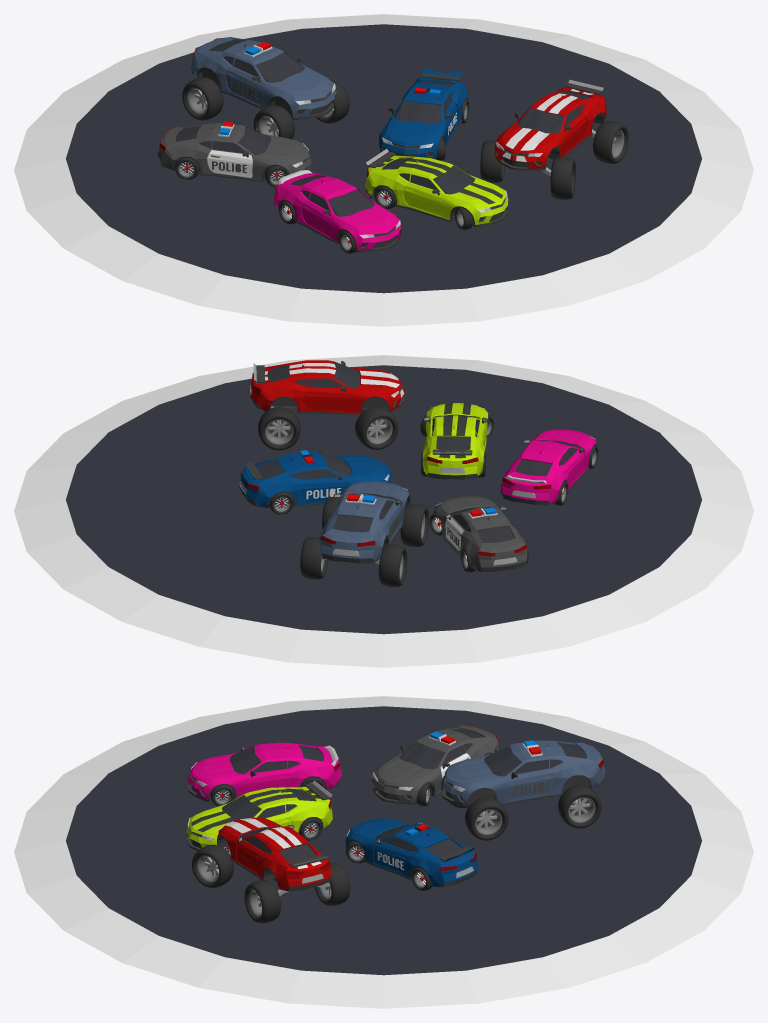
File: Full Pack.fbx
3 views of the same model, one above another, from view 1: azimuth 30°, elevation 25°; view 2: azimuth 150°, elevation 25°; view 3: azimuth 270°, elevation 25° (orthographic).
Parts seen in each view (by area): view 1: Ground, polySurface59 (×6), polySurface43 (×6), Tier (×6), polySurface65 (×4); view 2: Ground, polySurface59 (×6), polySurface43 (×6), Tier (×5), polySurface65; view 3: Ground, polySurface59 (×6), polySurface43 (×6), Tier (×5), polySurface65 (×3).
Part boxes in pixels (left/top/right/bottom): Ground: left=14, top=14, right=753, bottom=326; polySurface59 (×6): left=158, top=37, right=606, bottom=249; polySurface43 (×6): left=176, top=40, right=591, bottom=216; Tier (×6): left=182, top=77, right=628, bottom=199; polySurface65 (×4): left=192, top=67, right=604, bottom=252; Ground: left=14, top=355, right=753, bottom=667; polySurface59 (×6): left=239, top=360, right=596, bottom=569; polySurface43 (×6): left=257, top=362, right=579, bottom=542; Tier (×5): left=258, top=406, right=428, bottom=587; polySurface65: left=252, top=386, right=404, bottom=414; Ground: left=14, top=696, right=753, bottom=1008; polySurface59 (×6): left=186, top=725, right=605, bottom=889; polySurface43 (×6): left=222, top=728, right=586, bottom=862; Tier (×5): left=192, top=785, right=601, bottom=923; polySurface65 (×3): left=217, top=752, right=602, bottom=891.
Size of the model in its own units: 462 by 56.36 by 462.
